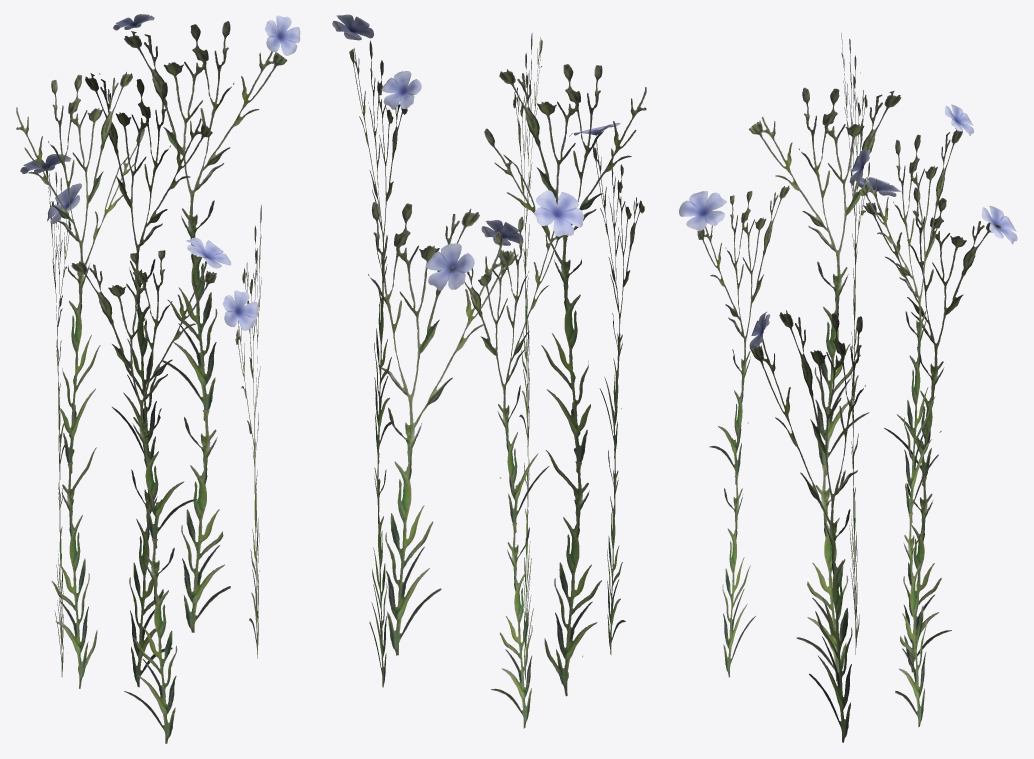
File: LinenwFlower.fbx
The picture shows the model from 3 angles, left to right: view 1: azimuth 30°, elevation 25°; view 2: azimuth 150°, elevation 25°; view 3: azimuth 270°, elevation 25°; orthographic projection. The views are drawn at different scales.
Parts seen in each view (by area): view 1: Linen/wFlower; view 2: Linen/wFlower; view 3: Linen/wFlower.
Boxes of the visible parts, bbox=[...] form: Linen/wFlower: bbox=[16, 14, 300, 743]; Linen/wFlower: bbox=[332, 14, 646, 728]; Linen/wFlower: bbox=[679, 33, 1017, 742].
Size of the model in its own units: 21.21 by 43.01 by 21.52.
